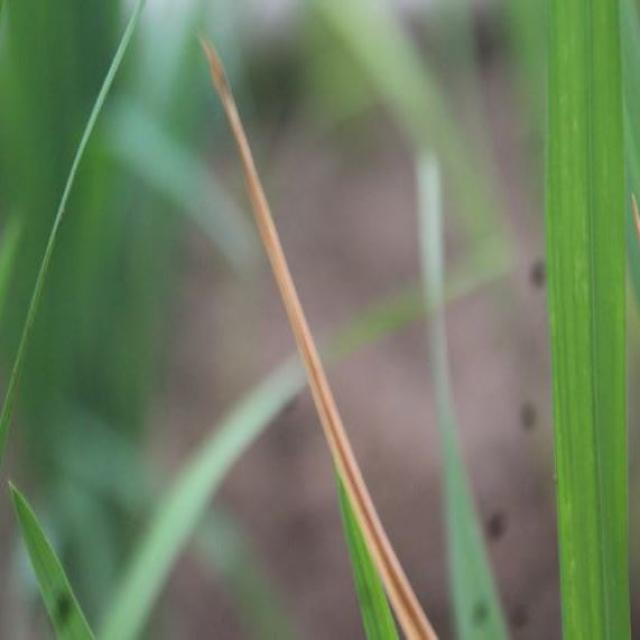Tungro: (188, 18, 448, 640)
